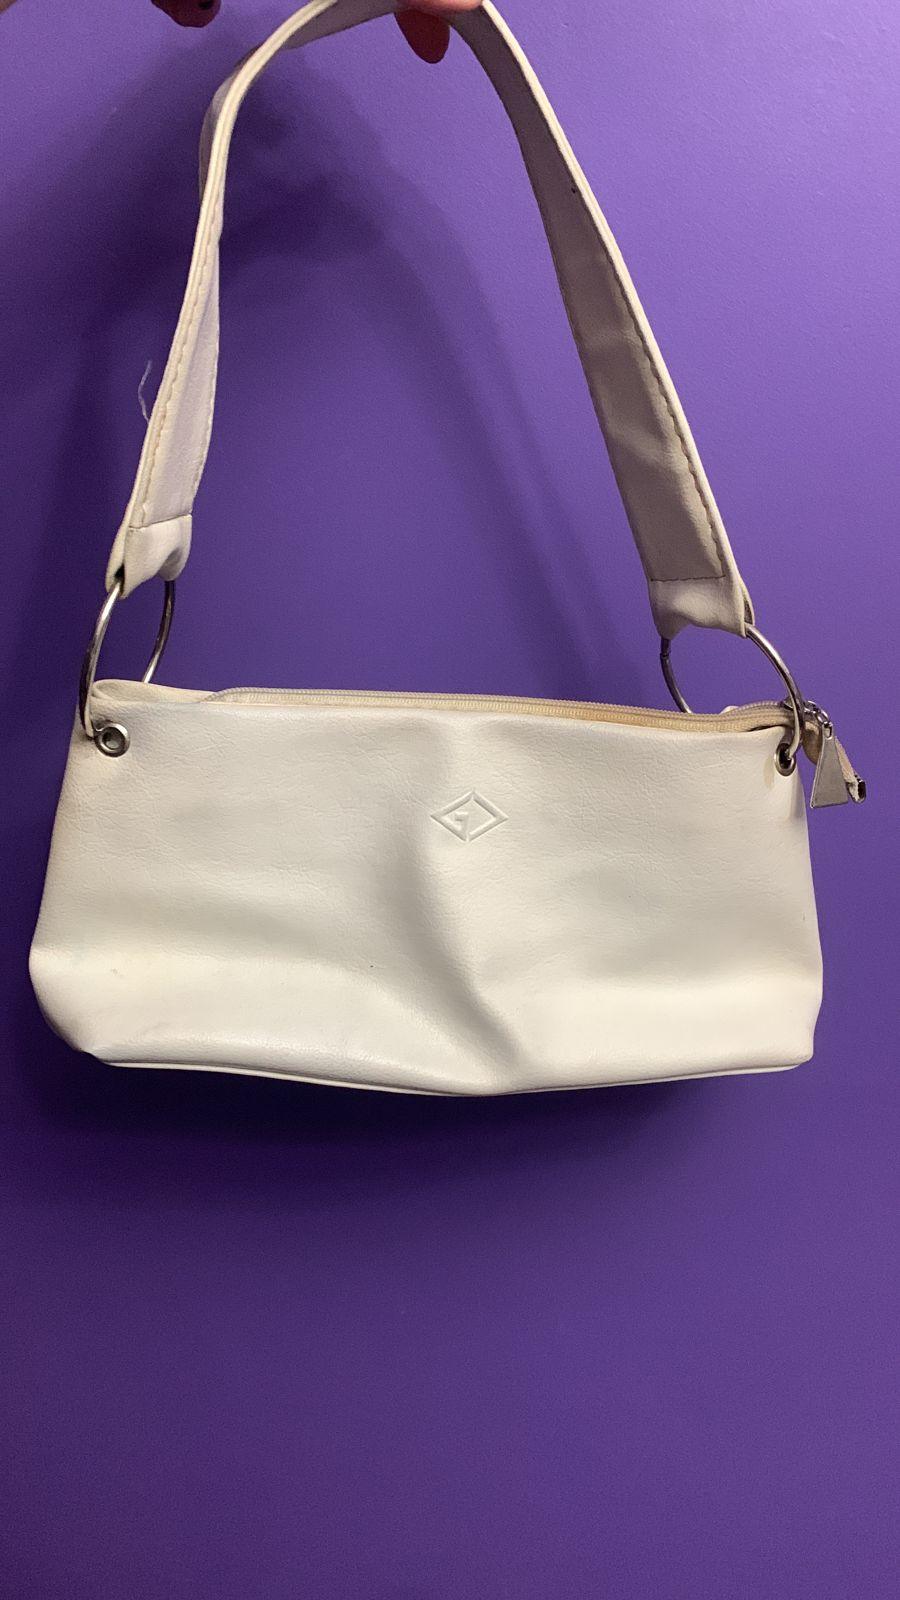cartera: (9, 29, 880, 1115)
cuero: (149, 762, 765, 1045)
